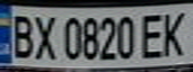0: (115, 11, 139, 61), (60, 12, 81, 62)
2: (100, 12, 121, 62)
8: (78, 12, 100, 62)
B: (6, 10, 36, 61)
E: (136, 10, 169, 60)
K: (157, 7, 193, 58)
X: (30, 11, 60, 62)
